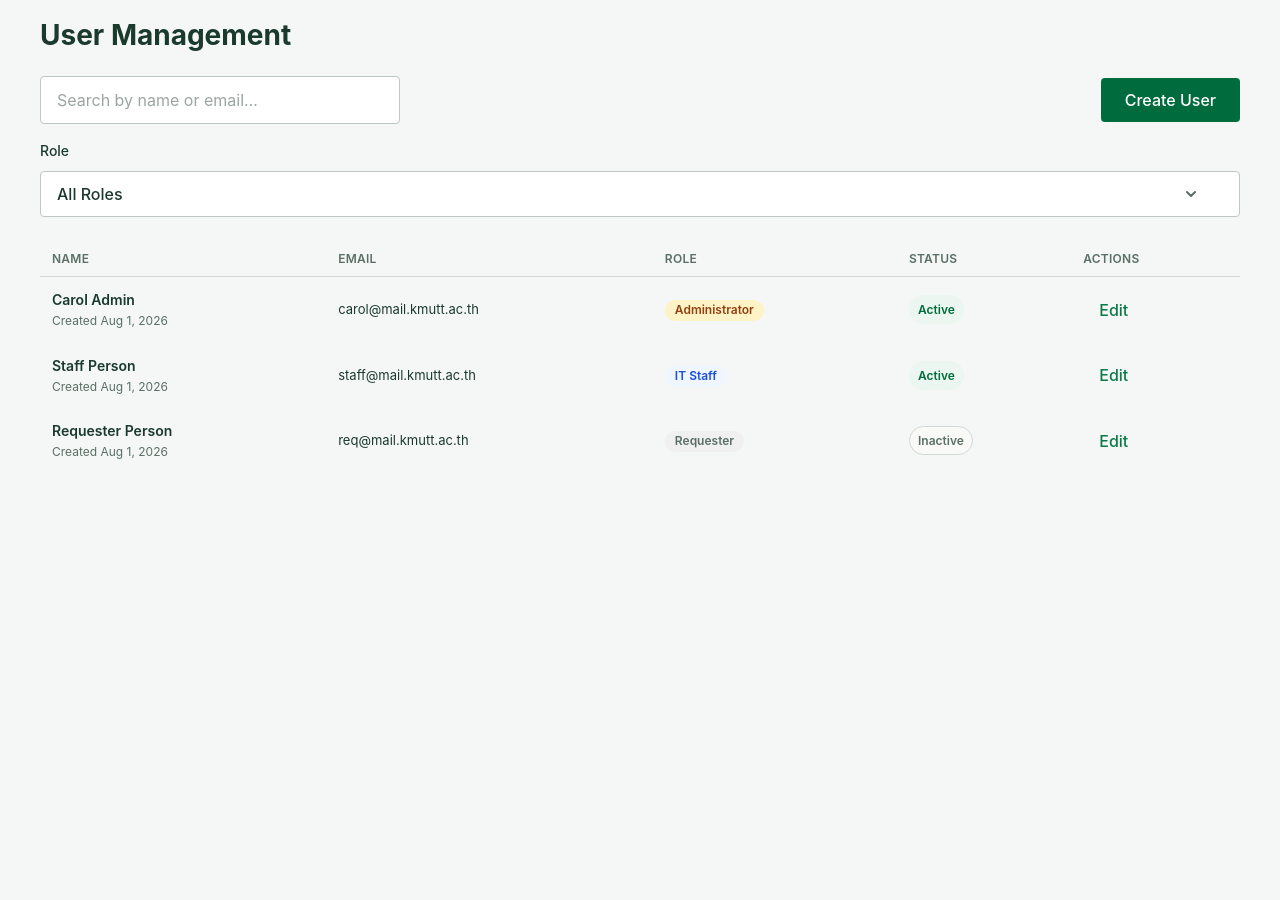
Test case: UserList (UI-11) › surfaces a duplicate-email conflict inline on the Email field
The width and height of the screenshot is (1280, 900).
Expected: the table with test id "users-table" is shown, [40,241,1240,474]
Click the button with test id "create-user-btn". click: {"x": 1170, "y": 100}
box: [1101,78,1240,122]
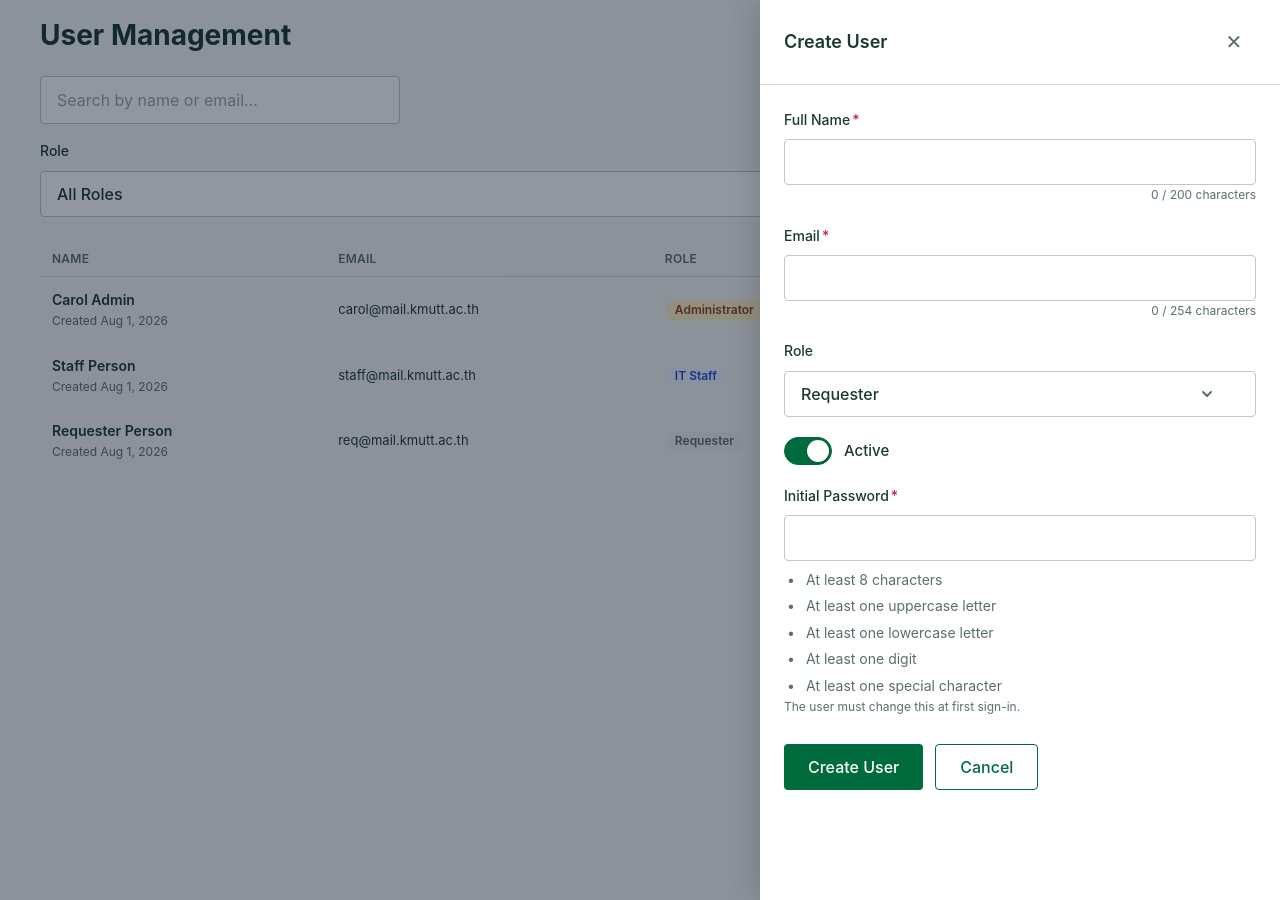
Type "New Person" into the field with test id "user-name-input". click: {"x": 1020, "y": 162}
box: [784,139,1256,185]
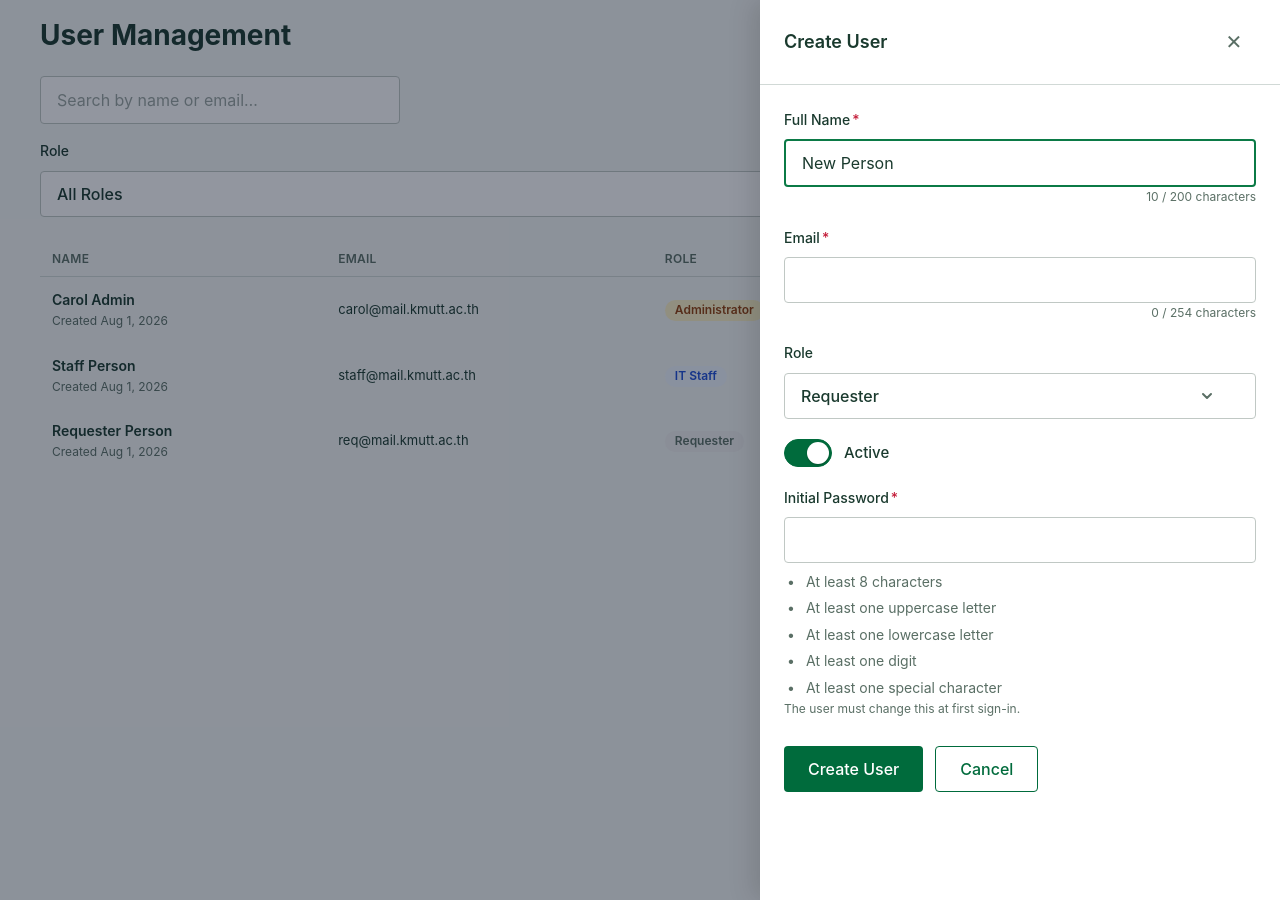
Type "taken@mail.kmutt.ac.th" into the field with test id "user-email-input". click: {"x": 1020, "y": 280}
box: [784,257,1256,303]
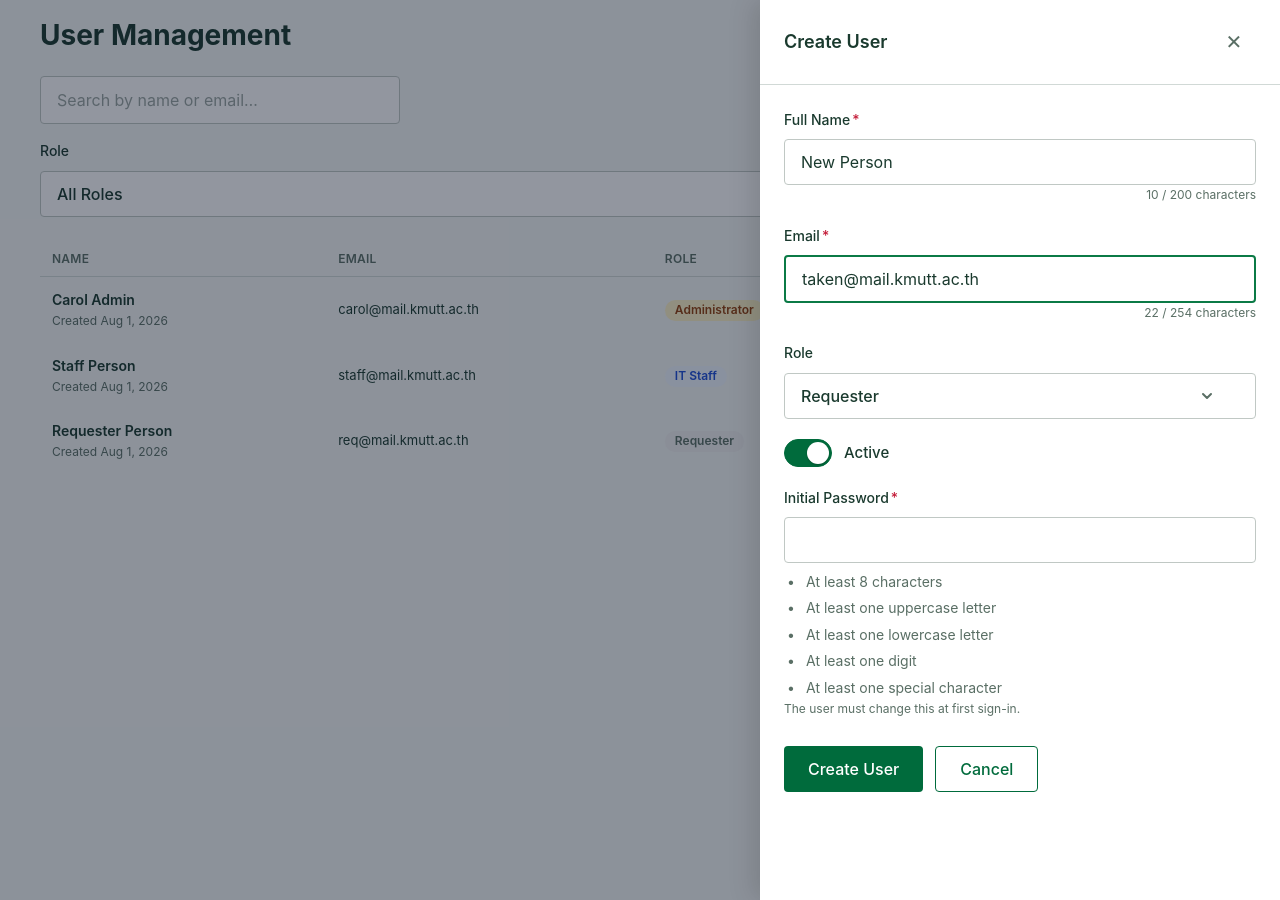
Type "ChangeMe123!" into the password field with test id "user-initial-password". click: {"x": 1020, "y": 540}
box: [784,517,1256,563]
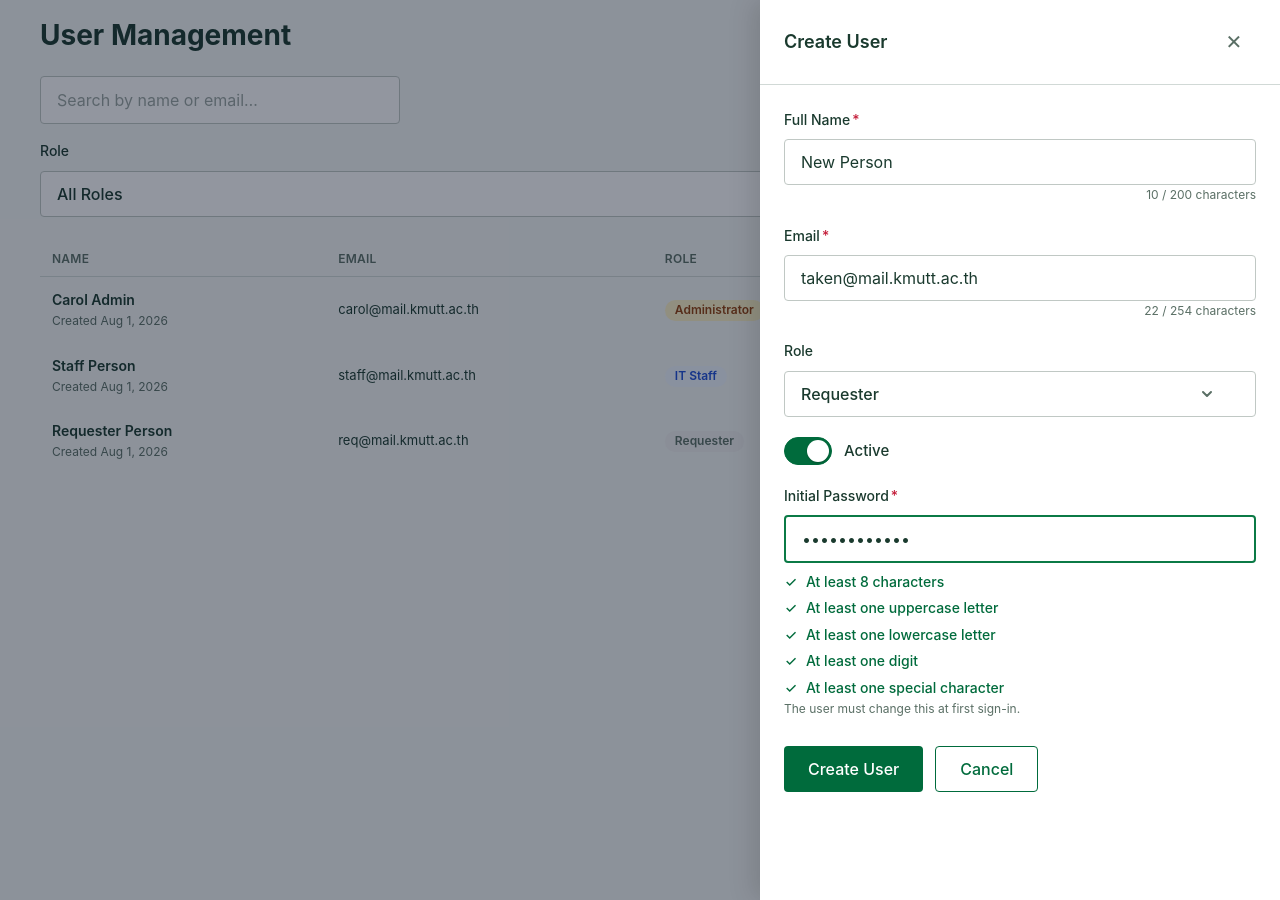
Click the button with test id "save-user-btn". click: {"x": 854, "y": 769}
box: [784,746,923,792]
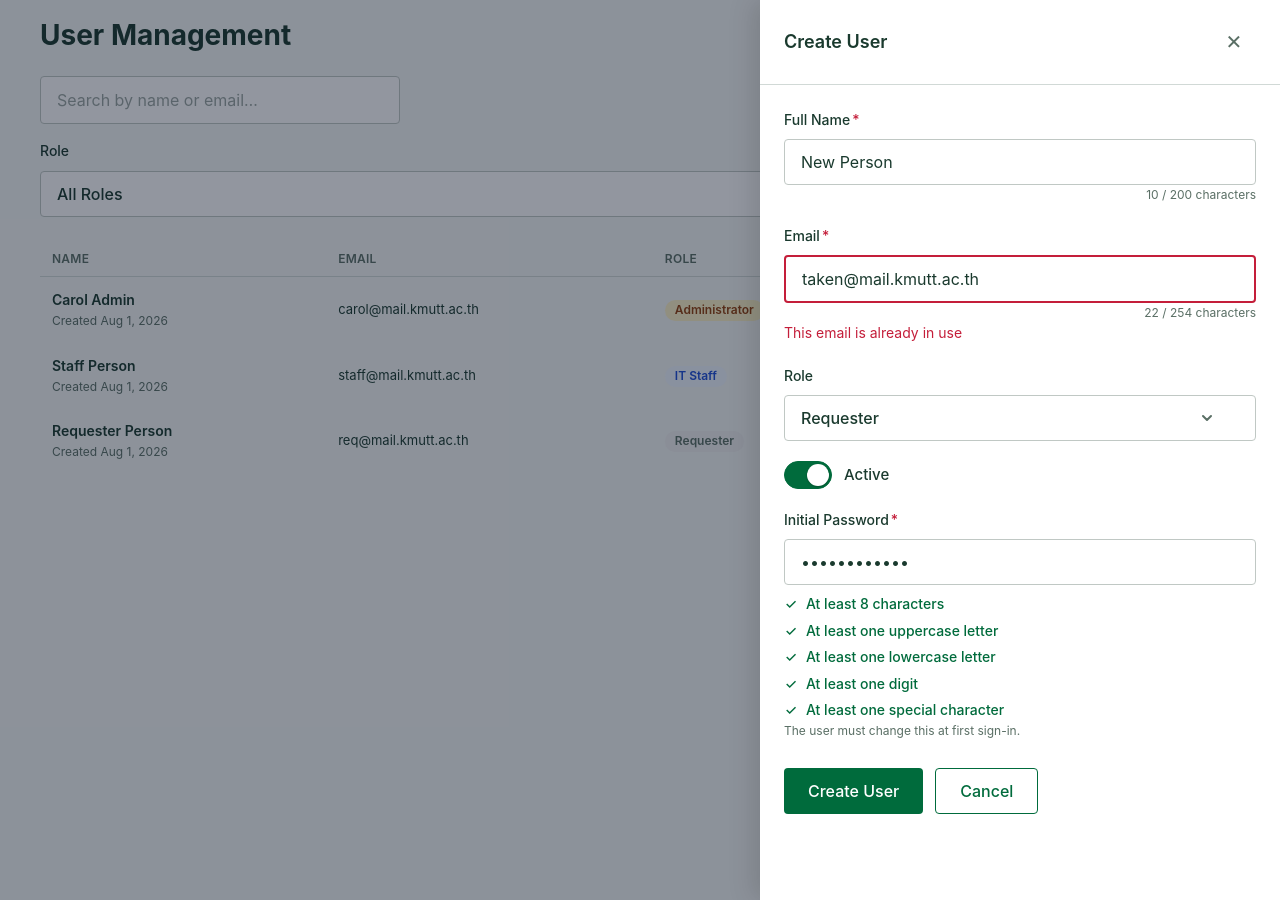
Expected: the dialog with test id "side-panel" is shown, [760,0,1279,899]
Expected: the message with test id "error-user-email" reads "This email is already in use", [784,324,962,341]
